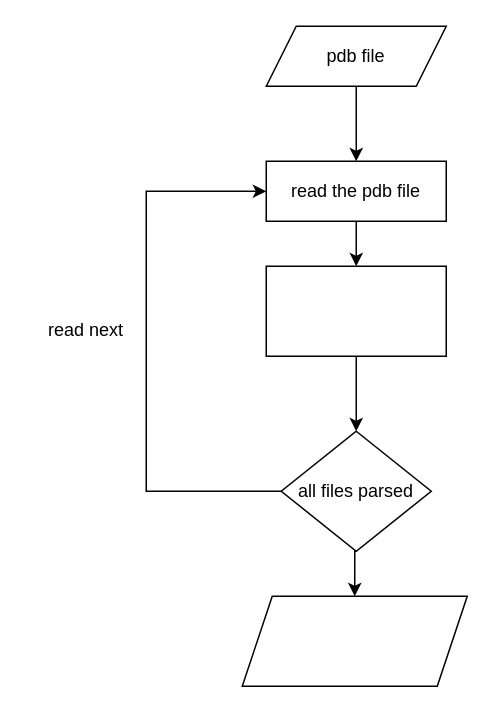
Some shapes in this 494 by 713 pixel diagram are drawn without their labels. The centre of each missing label's shape, as x and y in pixels:
"generate proteins.csv file" belongs at [354,640].
"parse the pdb file to select the longest sequence" belongs at [355,310].
